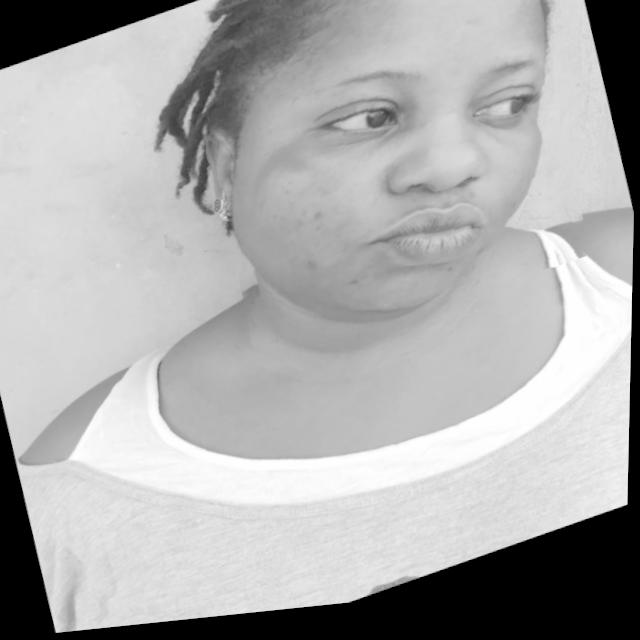sad: (173, 0, 604, 381)
